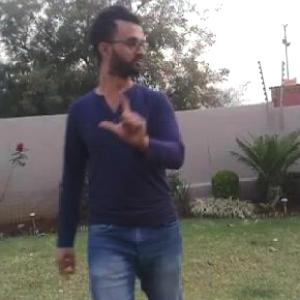land_hand: (96, 88, 152, 151)
